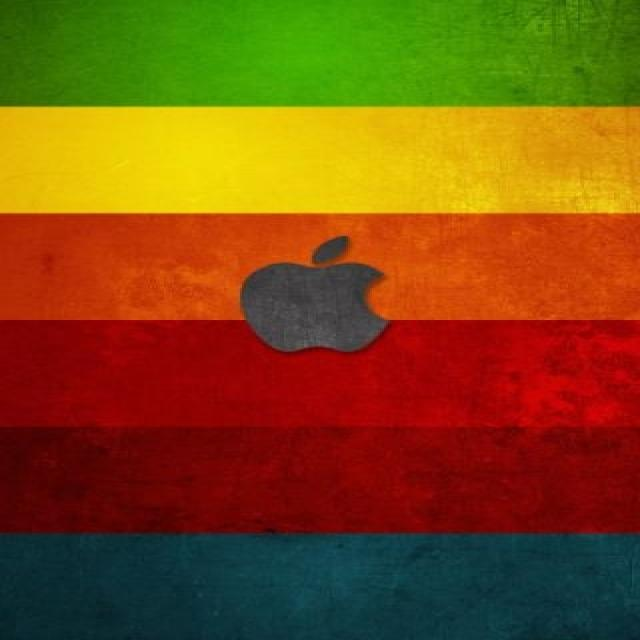apple: (221, 228, 411, 364)
